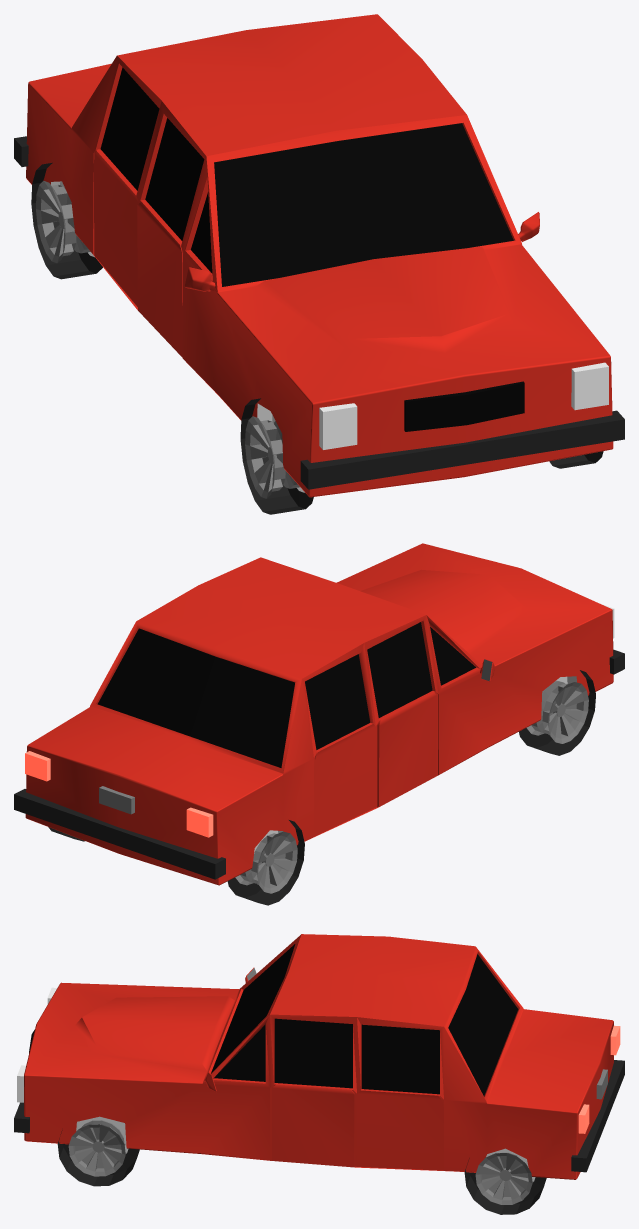
Rendered from cars3.fbx.
3 renders of one model, top to bottom at view 1: azimuth 30°, elevation 25°; view 2: azimuth 150°, elevation 25°; view 3: azimuth 270°, elevation 25°, orthographic. The views are drawn at different scales.
Parts seen in each view (by area): view 1: Object_19.001, Object_18.001, Object_16, Object_17.001, Object_14.002; view 2: Object_19.001, Object_18.001, Object_16, Object_17.001, Object_15.001; view 3: Object_19.001, Object_18.001, Object_17.001, Object_16, Object_15.001, Object_13.
Boxes of the visible parts, x1,y1,x2,y2 form: Object_19.001: (26,14,613,497); Object_18.001: (100,67,524,431); Object_16: (14,136,624,514); Object_17.001: (36,181,299,498); Object_14.002: (319,362,608,449); Object_19.001: (25,543,613,885); Object_18.001: (97,622,475,767); Object_16: (14,649,624,905); Object_17.001: (99,659,588,893); Object_15.001: (25,751,213,837); Object_19.001: (24,934,613,1179); Object_18.001: (29,944,518,1095); Object_17.001: (68,968,607,1204); Object_16: (14,1060,624,1214); Object_15.001: (578,1025,620,1133); Object_13: (76,1116,535,1182).
Bounding box in the file's own units: 188 × 114 × 352.
